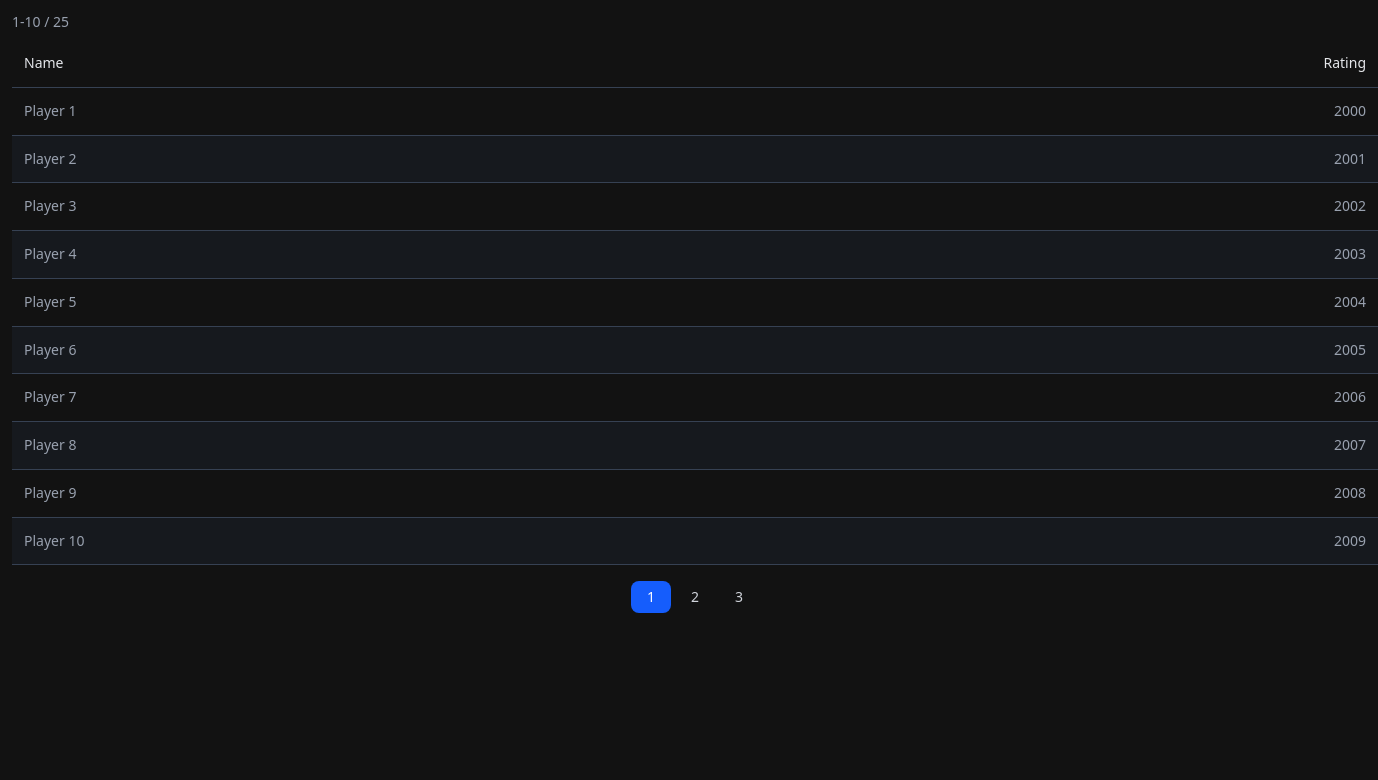
Table pagination › returns to page 1 when the sort changes, since the rows now differ
This screenshot has width=1378, height=780.
Click the button "3".
click(739, 597)  # box top-left (719, 581), bottom-right (759, 613)
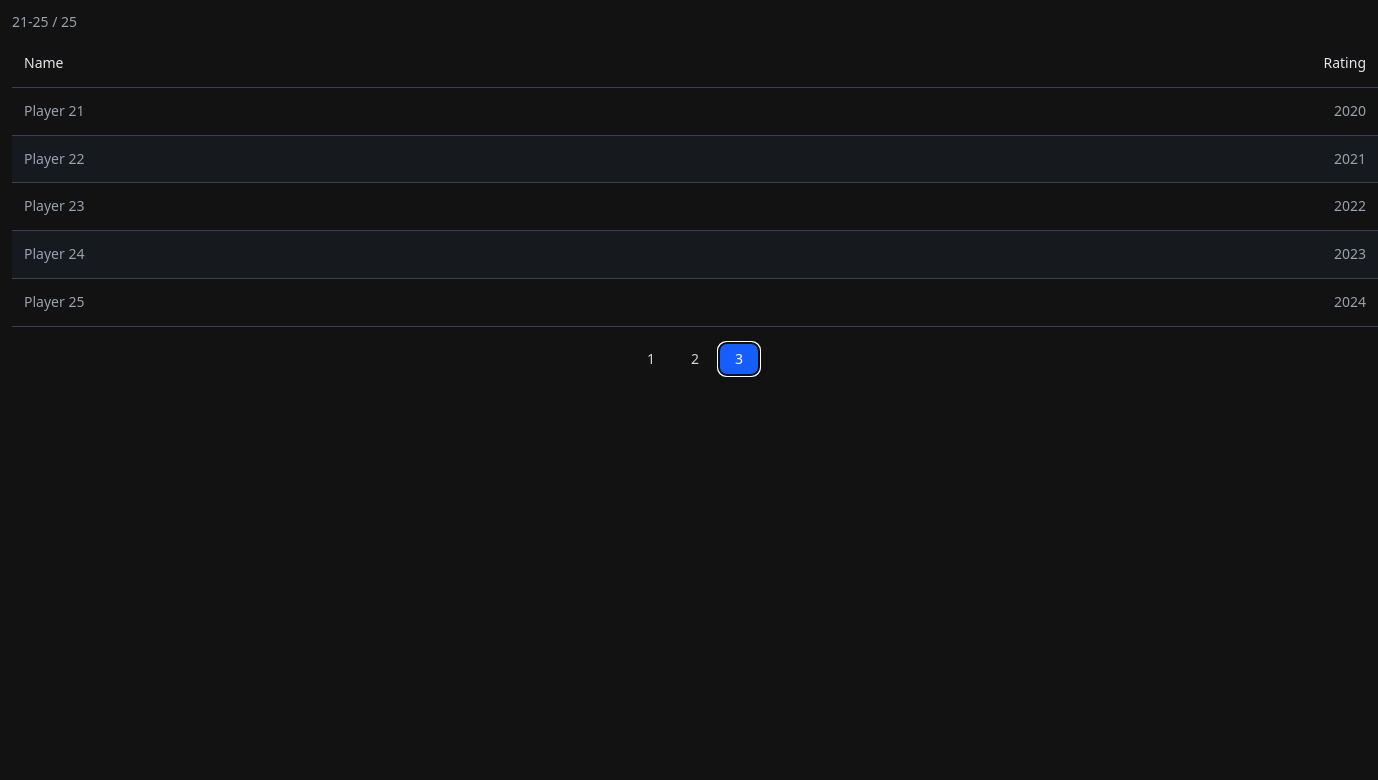
Now the text "21-25 / 25" is shown, box top-left (12, 12), bottom-right (77, 31)
Click the column heading "Name".
click(44, 62)  # box top-left (12, 40), bottom-right (776, 87)
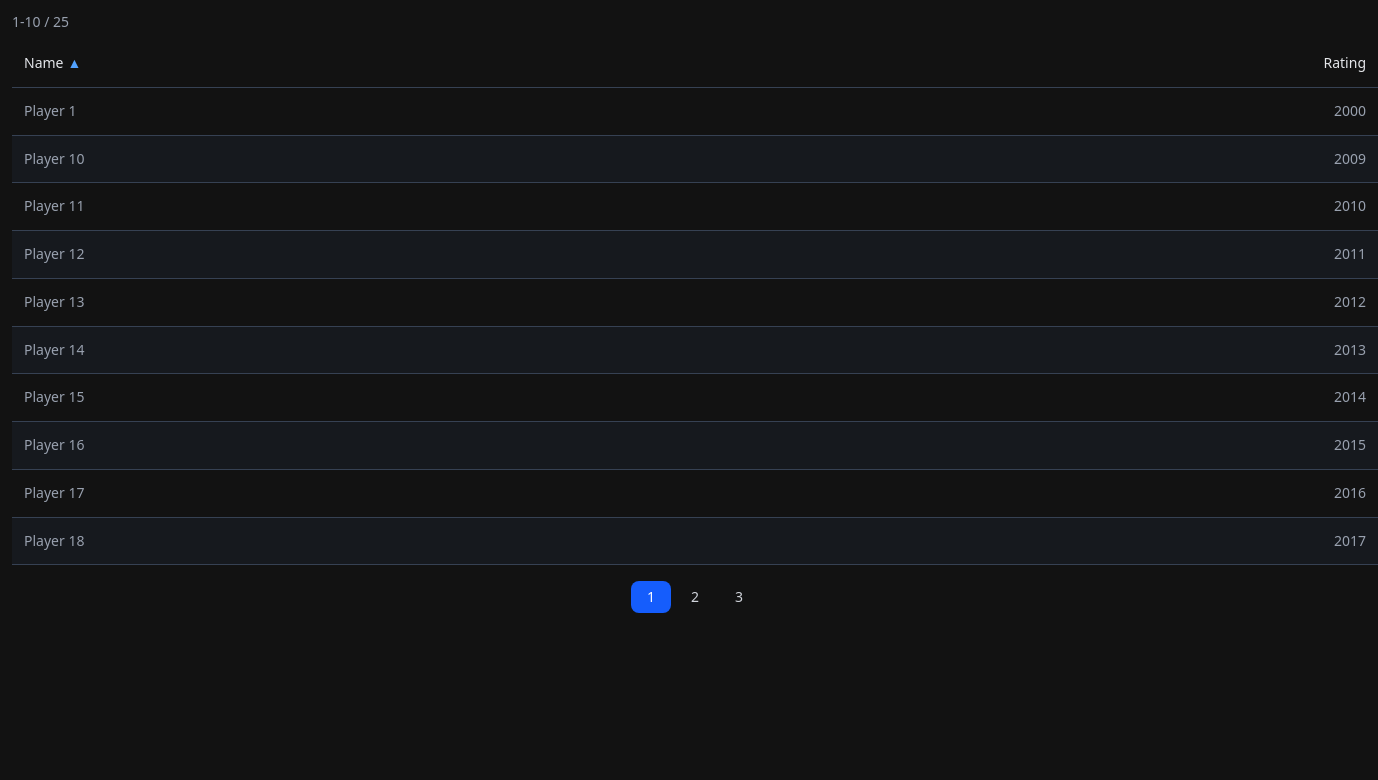
Now the text "1-10 / 25" is shown, box top-left (12, 12), bottom-right (69, 31)
